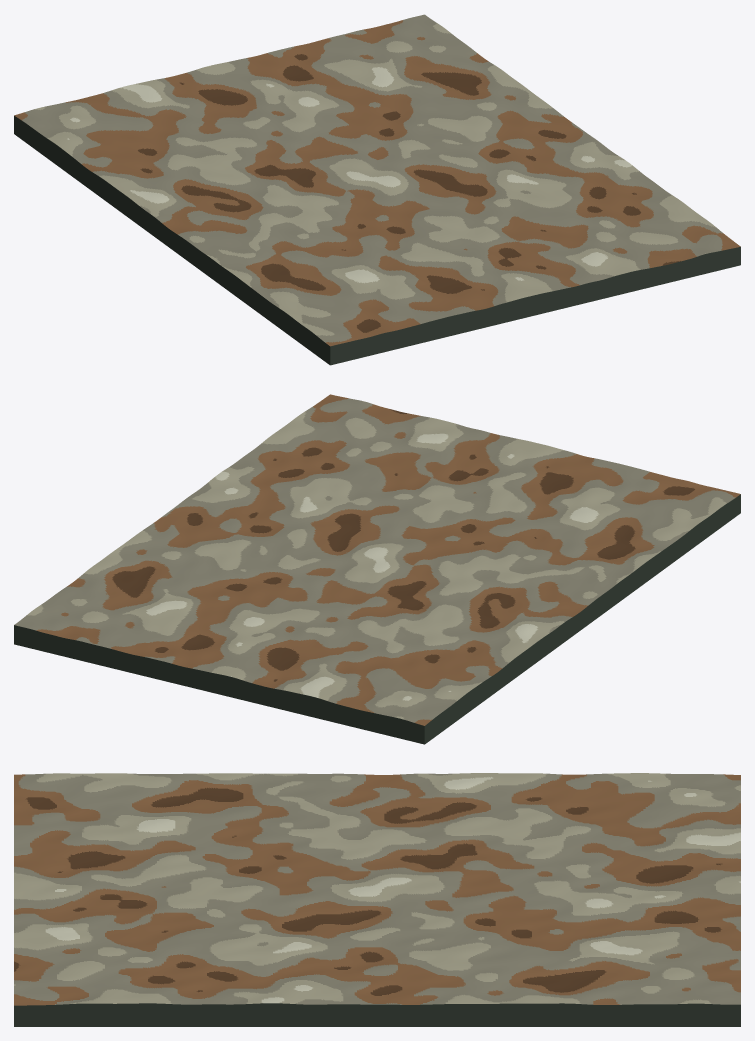
Rendered from full_uneven_high.dae.
3 renders of one model, top to bottom at view 1: azimuth 30°, elevation 25°; view 2: azimuth 150°, elevation 25°; view 3: azimuth 270°, elevation 25°, orthographic. The views are drawn at different scales.
Visible parts, largest first — view 1: terrain_node; view 2: terrain_node; view 3: terrain_node.
Part boxes in pixels (x1,y1,x2,y2): terrain_node: [14, 14, 740, 365]; terrain_node: [14, 394, 740, 744]; terrain_node: [14, 773, 740, 1026].
Size of the model in its own units: 6 by 8 by 0.295.
